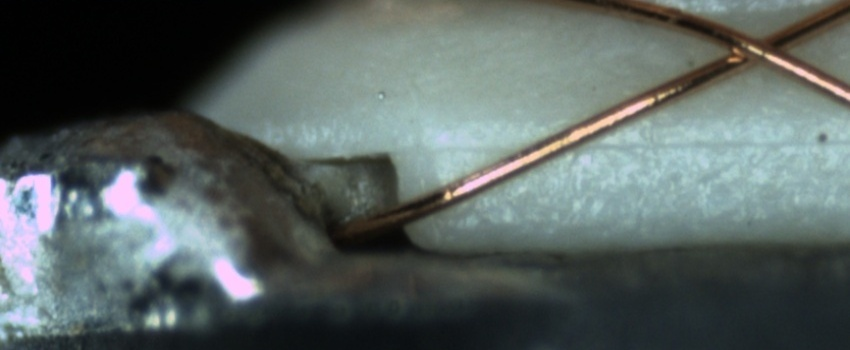CL: (705, 15, 816, 78)
DL: (434, 110, 849, 179)
